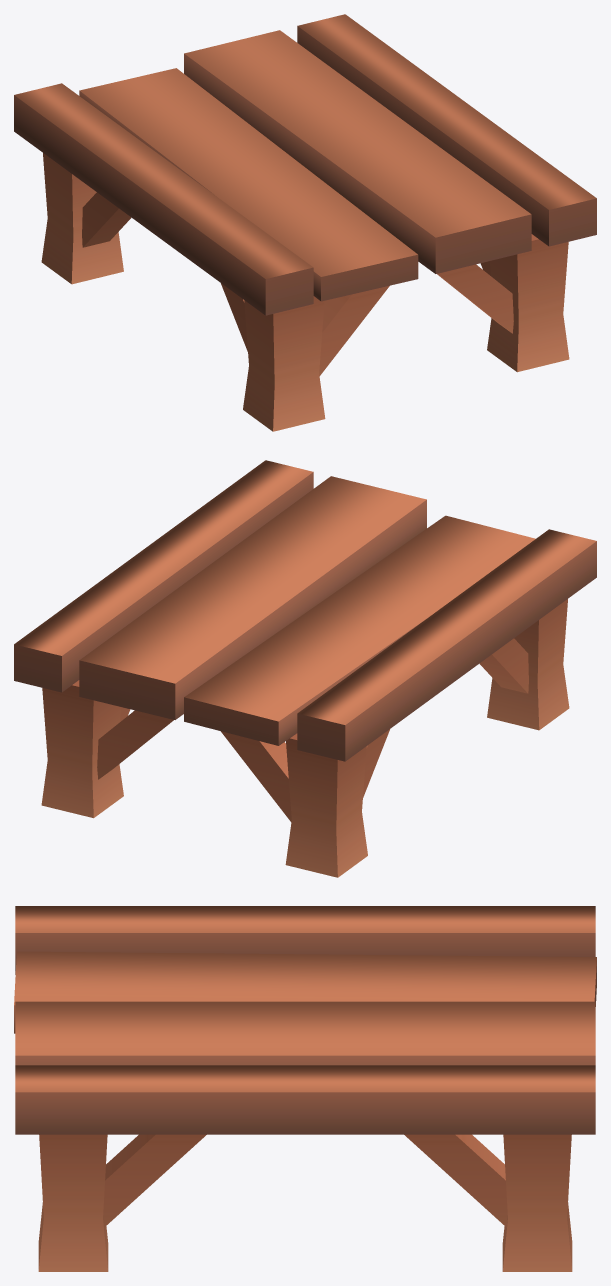
The model's file is kenney-pirate-structure-platform-small.glb.
3 views of the same model, one above another, from view 1: azimuth 30°, elevation 25°; view 2: azimuth 150°, elevation 25°; view 3: azimuth 270°, elevation 25° (orthographic). The views are drawn at different scales.
Parts seen in each view (by area): view 1: structure-platform-small; view 2: structure-platform-small; view 3: structure-platform-small.
Boxes of the visible parts, x1=… form: structure-platform-small: x1=14, y1=14, x2=596, y2=431; structure-platform-small: x1=14, y1=460, x2=596, y2=877; structure-platform-small: x1=14, y1=906, x2=596, y2=1271.
Bounding box in the file's own units: 1.9 × 0.9 × 2.51.
Materials: 1 (1 with a texture image).
